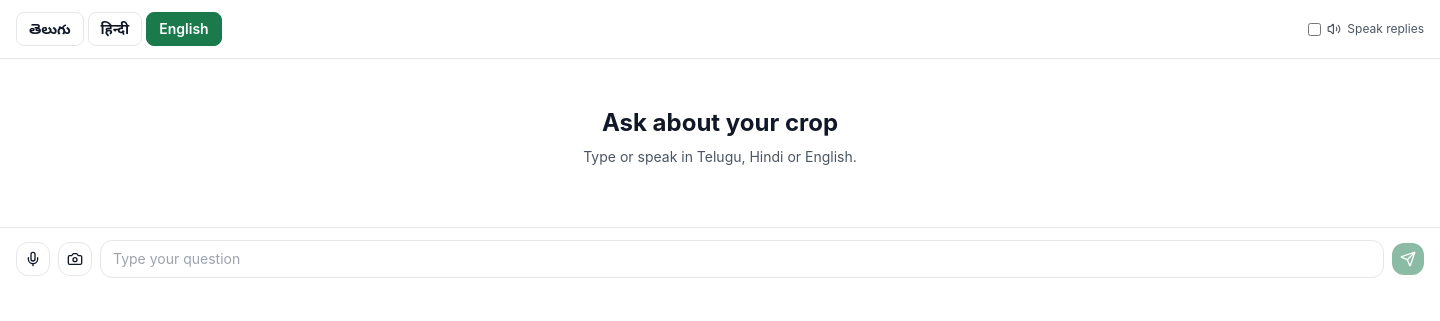
Test: FarmerChat › sends the question in the selected language and shows the cited answer
Click the button "తెలుగు": coordinates (50, 29) [16,12,84,46]
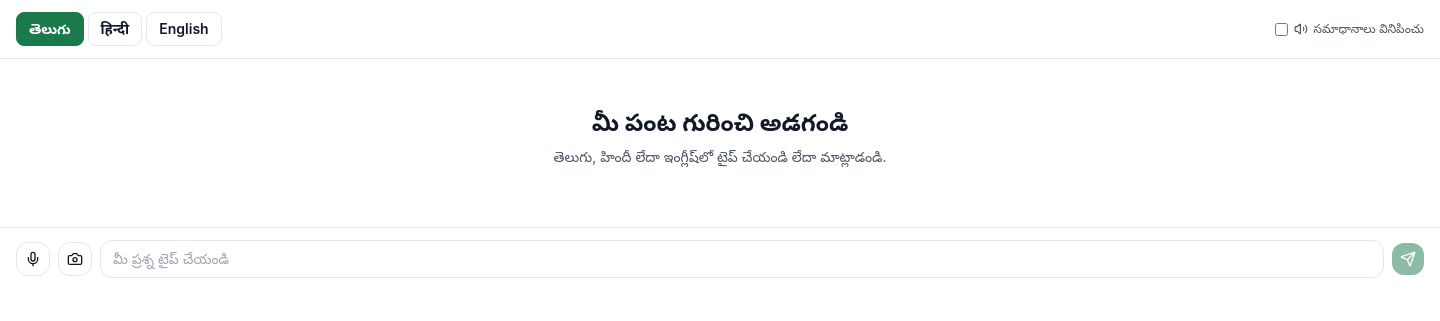
In the field: coordinates (742, 259) [100,240,1384,278], type "my paddy has blast"
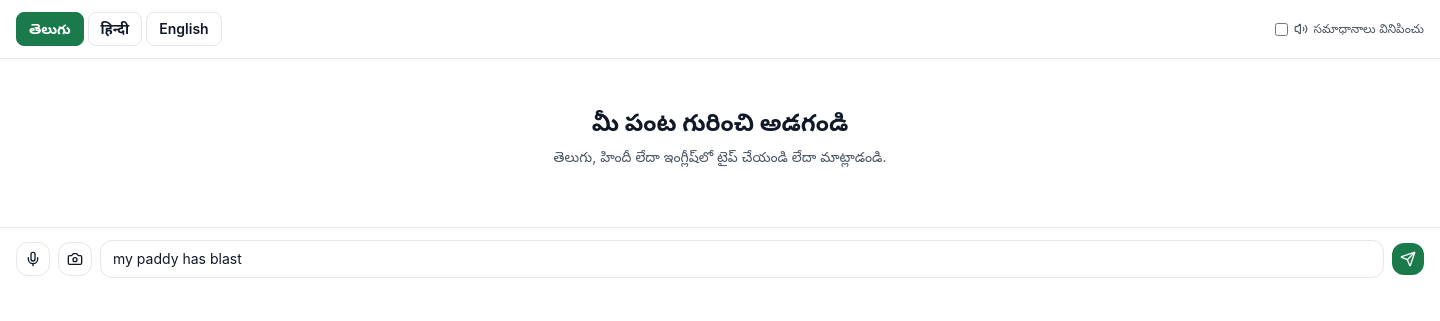
Submit the form, box [0,227,1439,290]
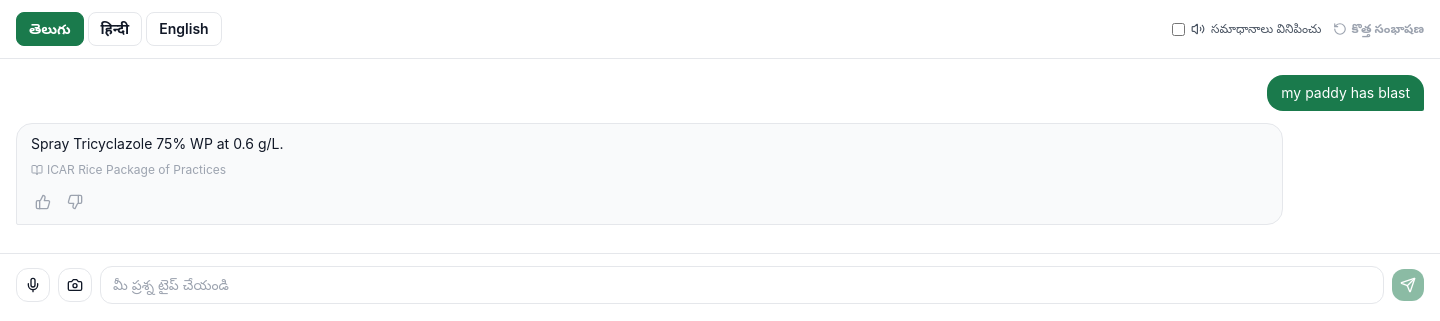
Now the text "Spray Tricyclazole 75% WP at 0.6 g/L." is shown, box [31,135,284,152]
Now the list item "ICAR Rice Package of Practices" is shown, box [31,162,226,177]
